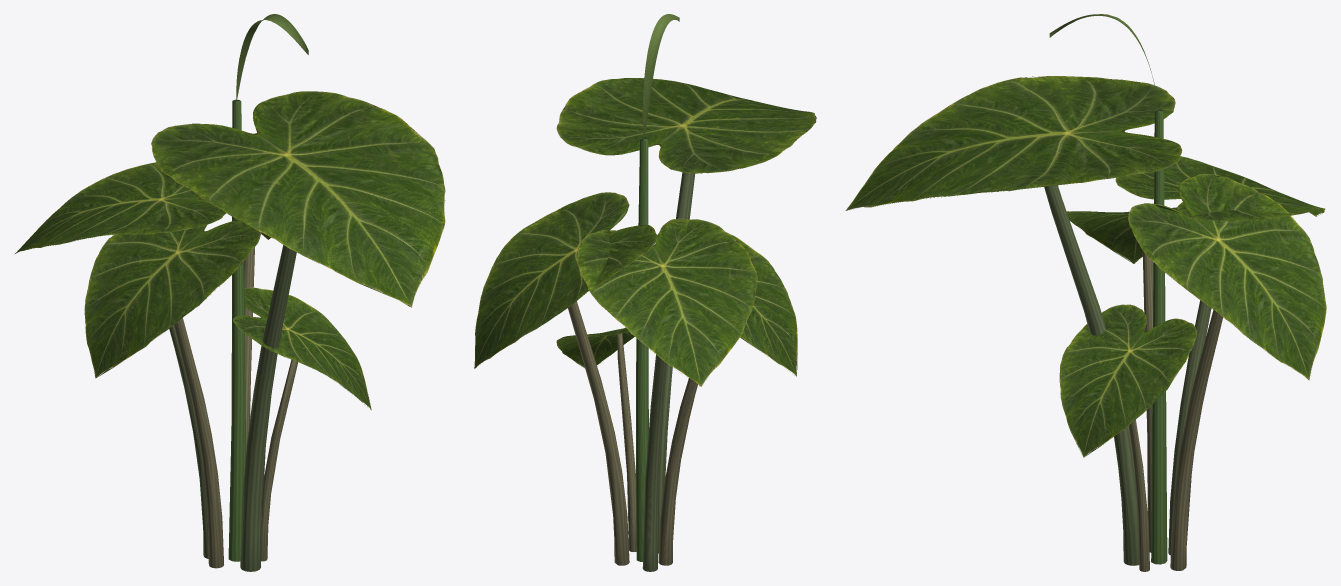
The model's file is taro-5.glb.
3 views of the same model, side by side, from view 1: azimuth 30°, elevation 25°; view 2: azimuth 150°, elevation 25°; view 3: azimuth 270°, elevation 25° (orthographic). The views are drawn at different scales.
Parts seen in each view (by area): view 1: leaf, petiole, new-leaf; view 2: leaf, petiole, leaf-back, new-leaf; view 3: leaf, petiole, leaf-back.
Boxes of the visible parts, left/top/right/bottom form: leaf: left=15, top=91, right=445, bottom=410; petiole: left=169, top=99, right=297, bottom=571; new-leaf: left=236, top=14, right=308, bottom=100; leaf: left=474, top=78, right=816, bottom=386; petiole: left=568, top=137, right=697, bottom=571; leaf-back: left=556, top=332, right=634, bottom=366; new-leaf: left=642, top=14, right=679, bottom=138; leaf: left=845, top=76, right=1326, bottom=457; petiole: left=1044, top=109, right=1222, bottom=571; leaf-back: left=1067, top=208, right=1325, bottom=263.
Bounding box in the file's own units: 0.5812 × 1.09 × 0.8617.
Materials: 5 (4 with a texture image).
